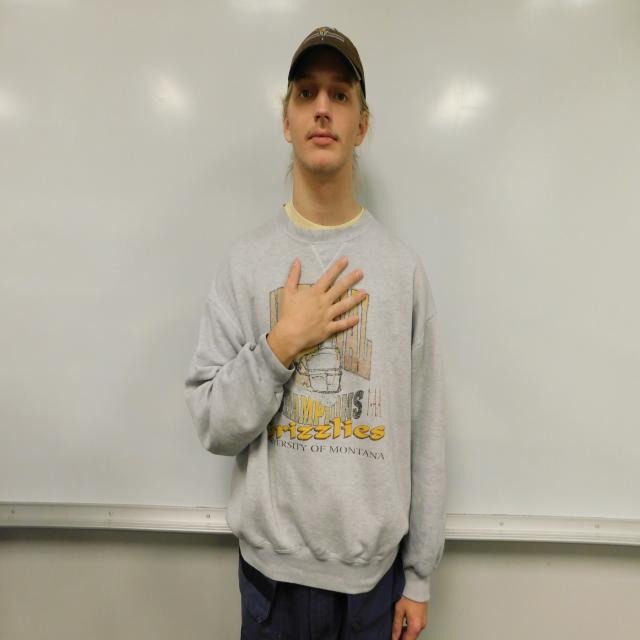like: (278, 257, 367, 346)
